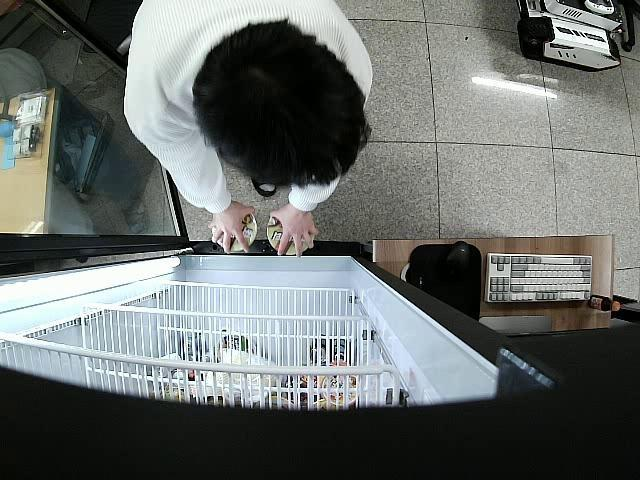03_chapagetti_L: (268, 214, 316, 253), (212, 210, 256, 252)
